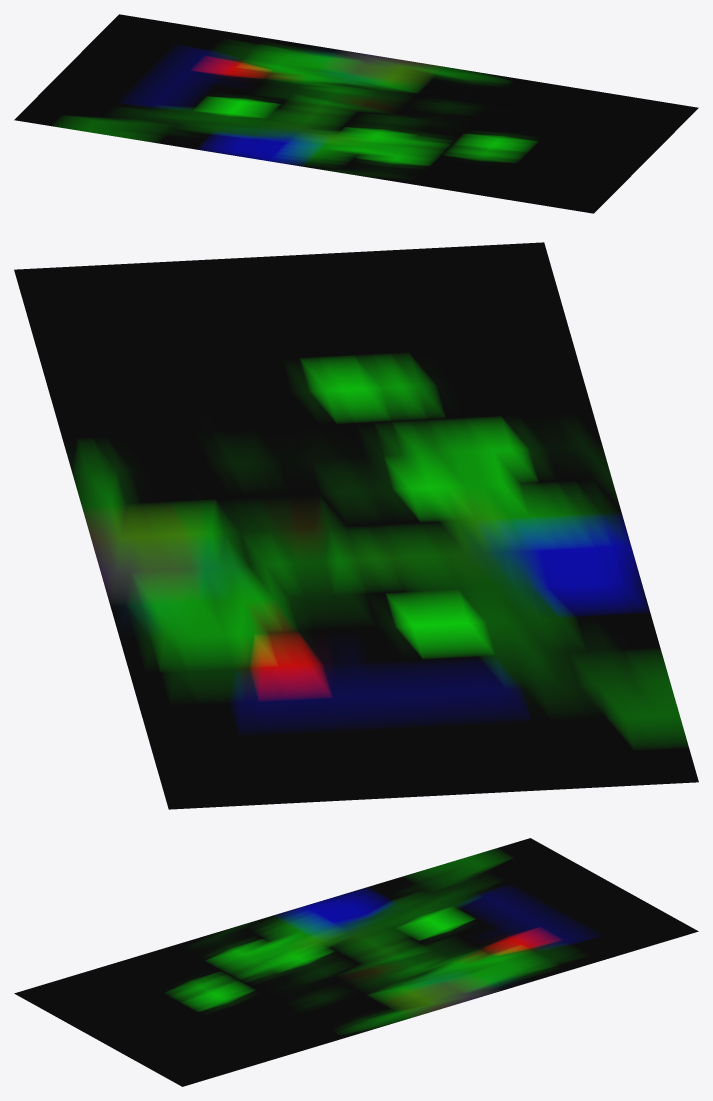
3 renders of one model, top to bottom at view 1: azimuth 30°, elevation 25°; view 2: azimuth 150°, elevation 25°; view 3: azimuth 270°, elevation 25°, orthographic. The views are drawn at different scales.
Visible parts, largest first — view 1: Plane__7_; view 2: Plane__7_; view 3: Plane__7_.
Part boxes in pixels (x1,y1,x2,y2): Plane__7_: (14,14,698,213); Plane__7_: (14,242,698,809); Plane__7_: (14,838,698,1086).
Bounding box in the file's own units: 1386 × 26.05 × 1547.
